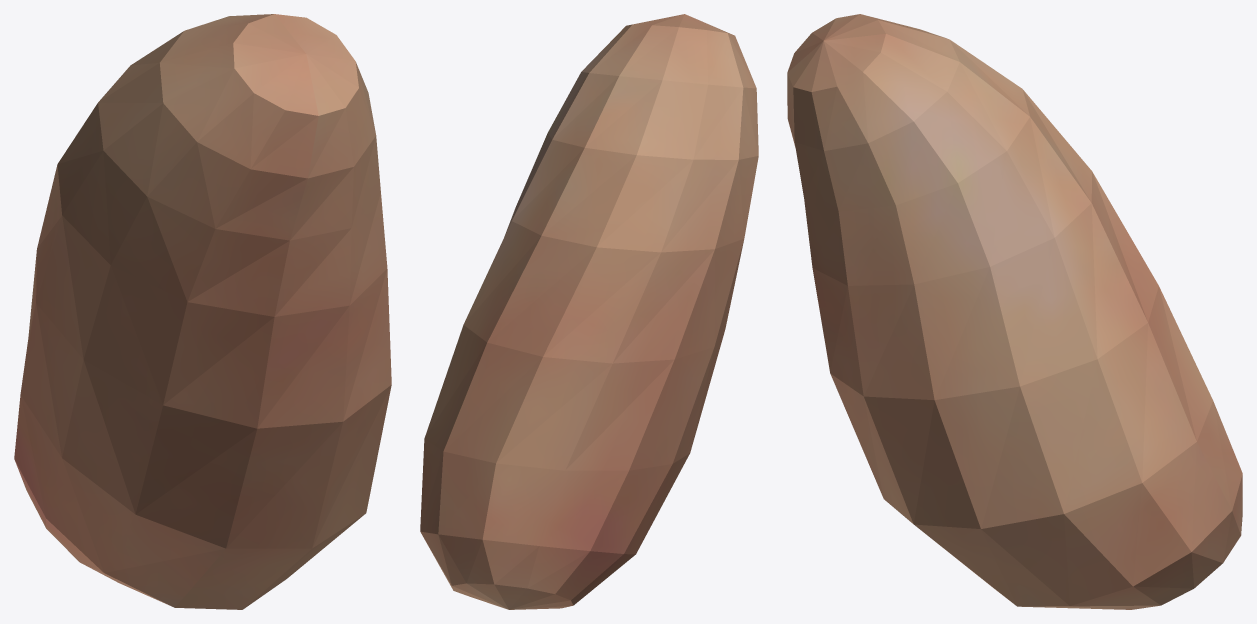
The model's file is adrenal_L_LP.glb.
3 views of the same model, side by side, from view 1: azimuth 30°, elevation 25°; view 2: azimuth 150°, elevation 25°; view 3: azimuth 270°, elevation 25° (orthographic). The views are drawn at different scales.
Visible parts, largest first — view 1: adrenal_L_LP; view 2: adrenal_L_LP; view 3: adrenal_L_LP.
Boxes of the visible parts, left/top/right/bottom form: adrenal_L_LP: left=14, top=14, right=391, bottom=609; adrenal_L_LP: left=420, top=14, right=758, bottom=609; adrenal_L_LP: left=787, top=14, right=1242, bottom=609.
Size of the model in its own units: 0.00021 by 0.000426 by 0.000314.
Materials: 1 (1 with a texture image).
